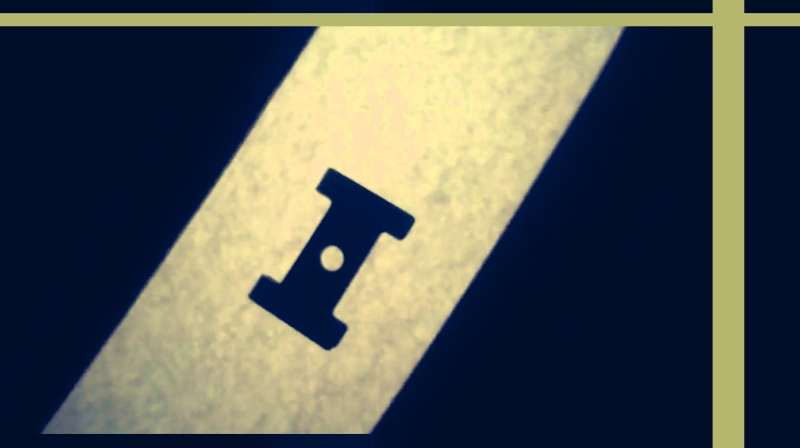O002: (243, 163, 419, 352)
